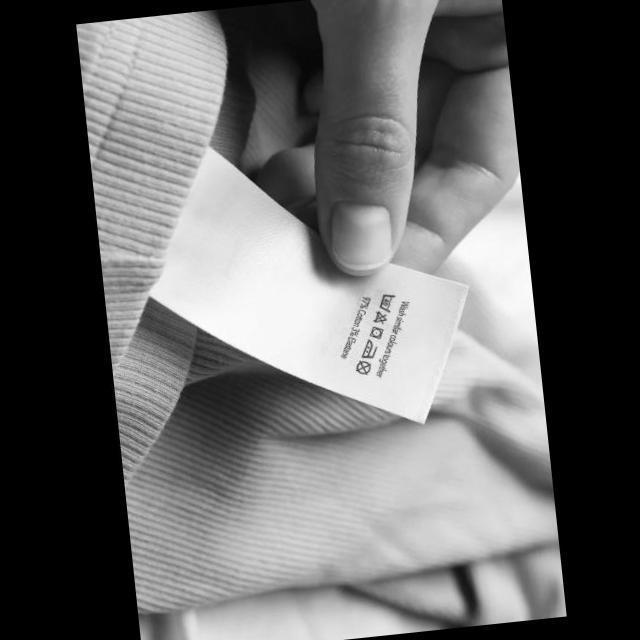40C: (375, 292, 396, 314)
DN_bleach: (370, 309, 386, 325)
DN_dry_clean: (352, 358, 372, 378)
iron_medium: (357, 336, 378, 359)
tumble_dry_low: (367, 324, 382, 340)
